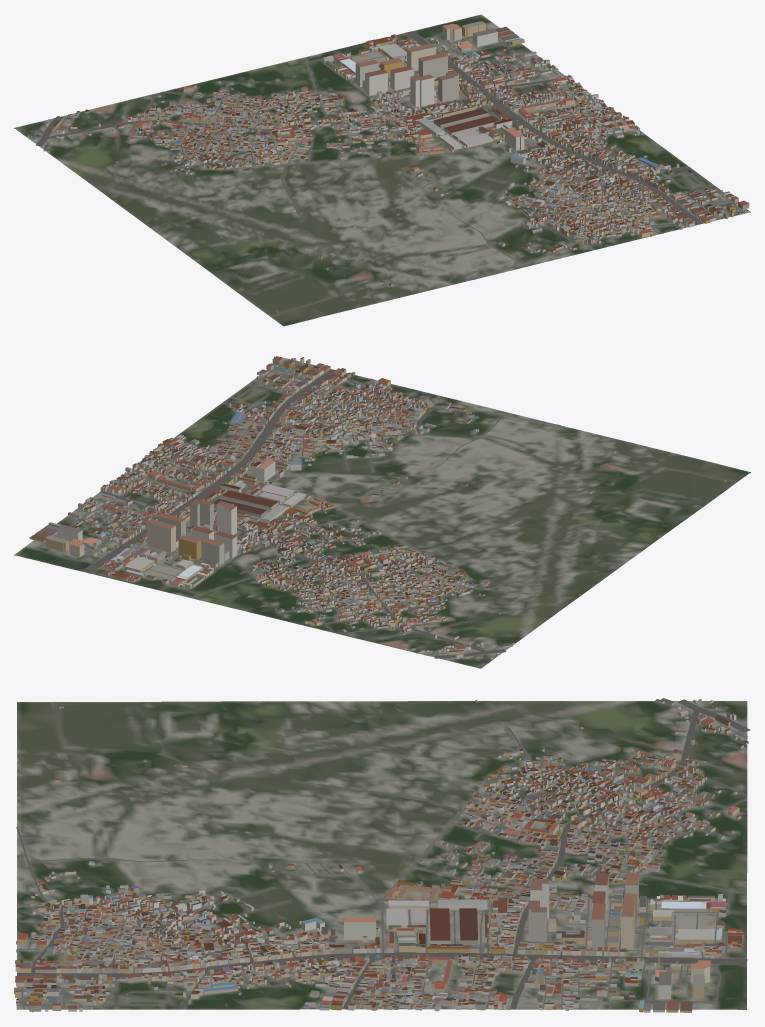
3 views of the same model, one above another, from view 1: azimuth 30°, elevation 25°; view 2: azimuth 150°, elevation 25°; view 3: azimuth 270°, elevation 25° (orthographic). The views are drawn at different scales.
Visible parts, largest first — view 1: ground, buildings, roads; view 2: ground, buildings, roads; view 3: ground, buildings, roads.
Part boxes in pixels (x1=…): ground: x1=14, y1=14, x2=750, y2=326; buildings: x1=28, y1=21, x2=749, y2=312; roads: x1=35, y1=22, x2=748, y2=316; ground: x1=14, y1=358, x2=750, y2=668; buildings: x1=29, y1=356, x2=726, y2=658; roads: x1=25, y1=359, x2=736, y2=661; ground: x1=16, y1=701, x2=747, y2=1009; buildings: x1=14, y1=698, x2=748, y2=1012; roads: x1=16, y1=699, x2=750, y2=1009.
Bounding box in the file's own units: 1421 × 80.28 × 1415.
